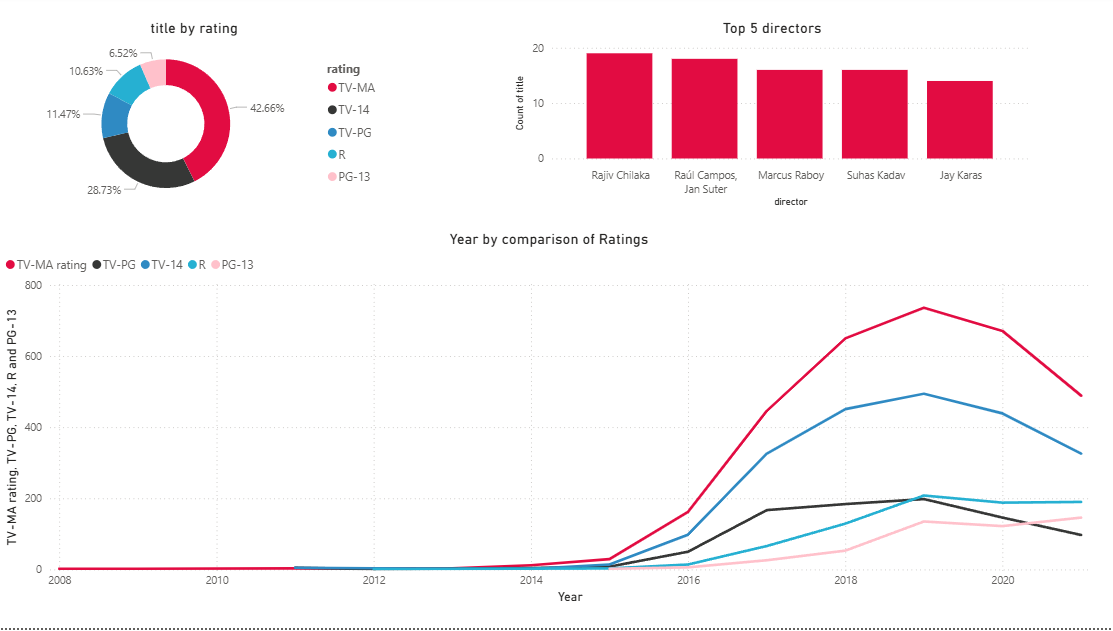

Layout of this report page (visuals, bound fields, positions):
{"tool":"powerbi","page":{"name":"Page 3","canvas":[1280,720],"ordinal":2},"visuals":[{"type":"lineChart","title":"Year by comparison of Ratings","fields":{"Y":["measures table.TV-MA rating","measures table.TV-PG","measures table.TV-14","measures table.R","measures table.PG-13"],"Category":["netflix_titles.date_added.Variation.Date Hierarchy.Year"]},"box":[10,267.5,1247.5,430],"z":0},{"type":"donutChart","title":" title by rating","fields":{"Y":["CountNonNull(netflix_titles.title)"],"Category":["netflix_titles.rating"]},"box":[10,27.5,440,220],"z":1000},{"type":"columnChart","title":"Top 5  directors","fields":{"Category":["netflix_titles.director"],"Y":["CountNonNull(netflix_titles.title)"]},"box":[590,27.5,595,220],"z":2000}]}

Visuals, with their boxes in screenshot pixels (x1, y1, x2, y2), scaled from the page's 1280x720 canvas onto the 1113x631 screenshot:
"Year by comparison of Ratings" lineChart: <bbox>9, 234, 1093, 611</bbox>
" title by rating" donutChart: <bbox>9, 24, 391, 217</bbox>
"Top 5  directors" columnChart: <bbox>513, 24, 1030, 217</bbox>
